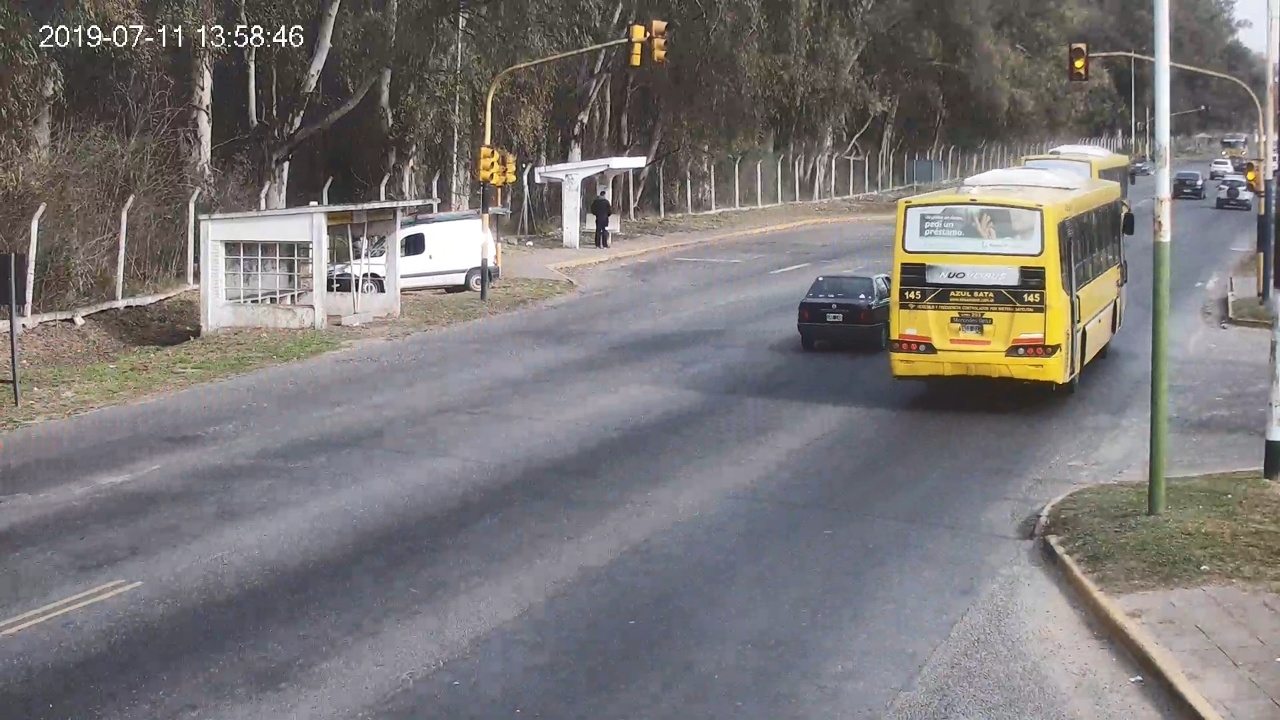bus: (889, 168, 1134, 392)
traffic light: (1070, 41, 1088, 81), (1246, 161, 1257, 192)
